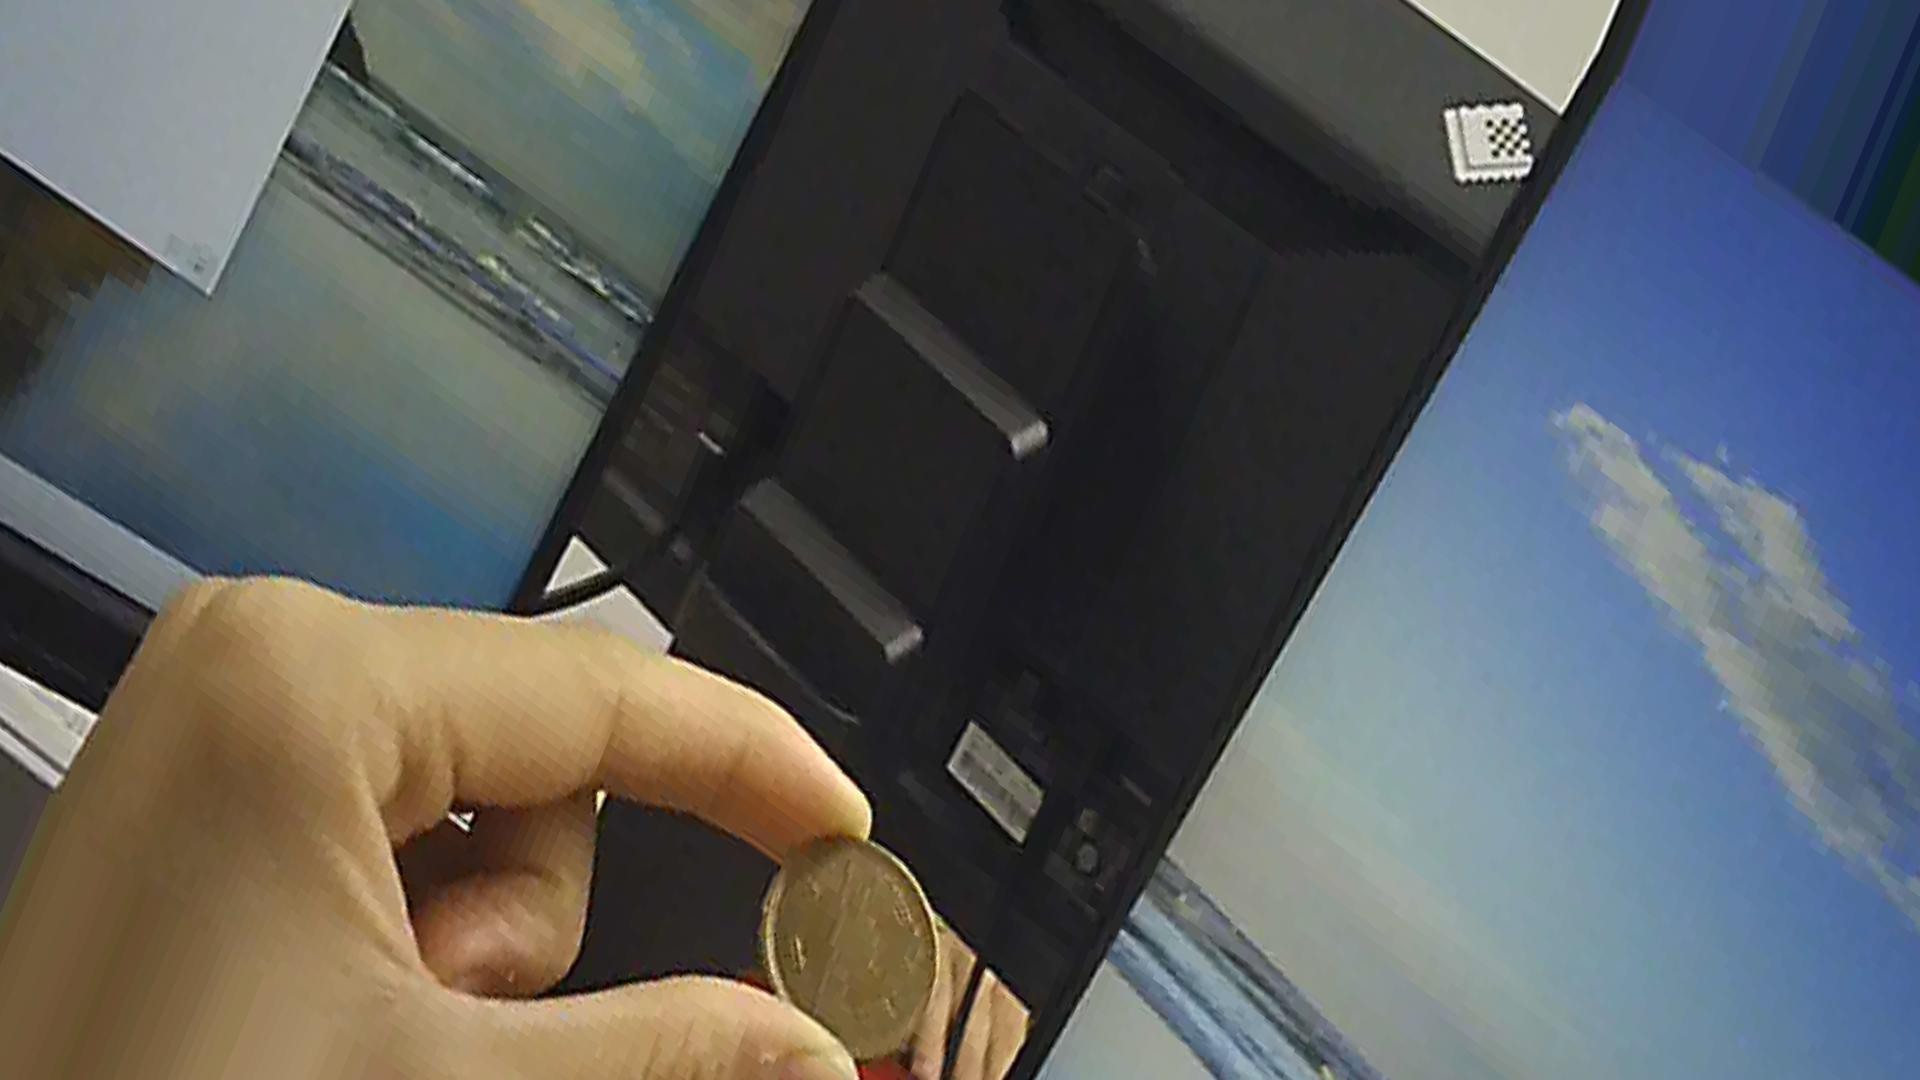10 Yen: (746, 829, 942, 1051)
